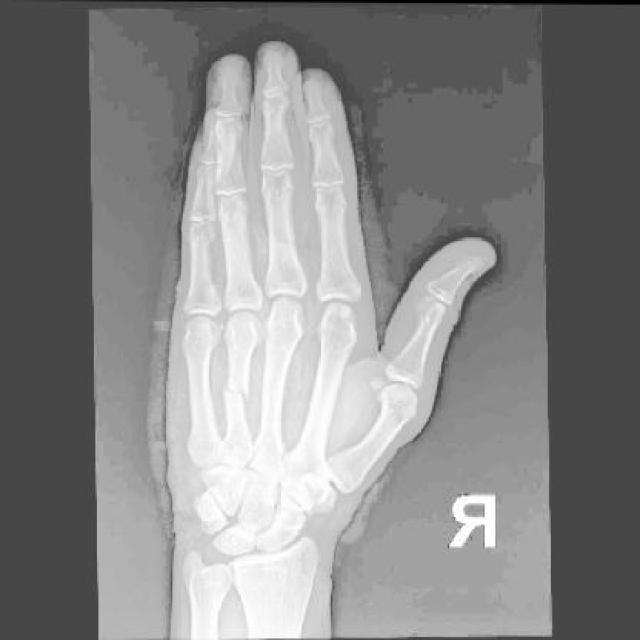Fracture: (225, 376, 254, 401)
